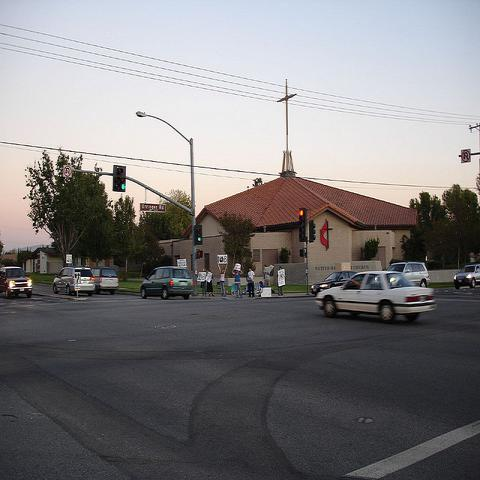car: (314, 270, 437, 324), (139, 266, 194, 300), (53, 267, 96, 299), (386, 261, 430, 288), (0, 265, 33, 299), (311, 272, 355, 297), (90, 267, 119, 295), (453, 264, 479, 291)
truck: (139, 266, 194, 300)
